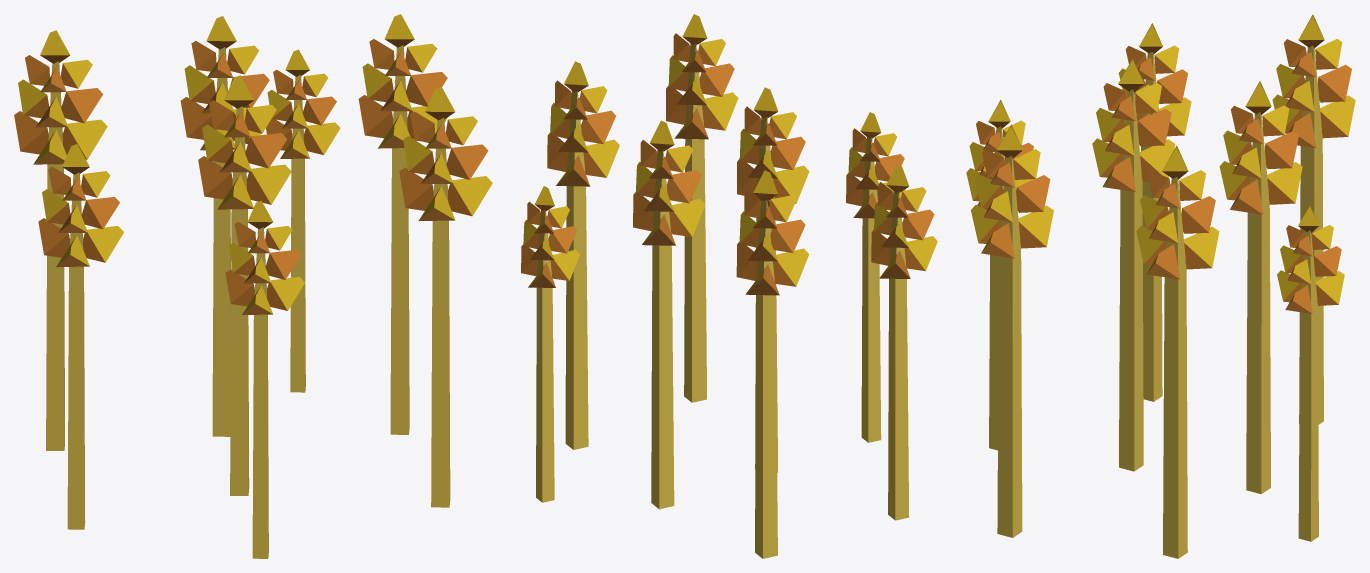
Rendered from wheat_field_rare.fbx.
3 renders of one model, left to right at view 1: azimuth 30°, elevation 25°; view 2: azimuth 150°, elevation 25°; view 3: azimuth 270°, elevation 25°, orthographic. The views are drawn at different scales.
Parts seen in each view (by area): view 1: Plane.024; view 2: Plane.024; view 3: Plane.024.
Part boxes in pixels (<box>): Plane.024: <box>14,14,492,558</box>; Plane.024: <box>521,14,937,558</box>; Plane.024: <box>966,14,1355,558</box>.
Bounding box in the file's own units: 96.16 × 95.75 × 82.2.
